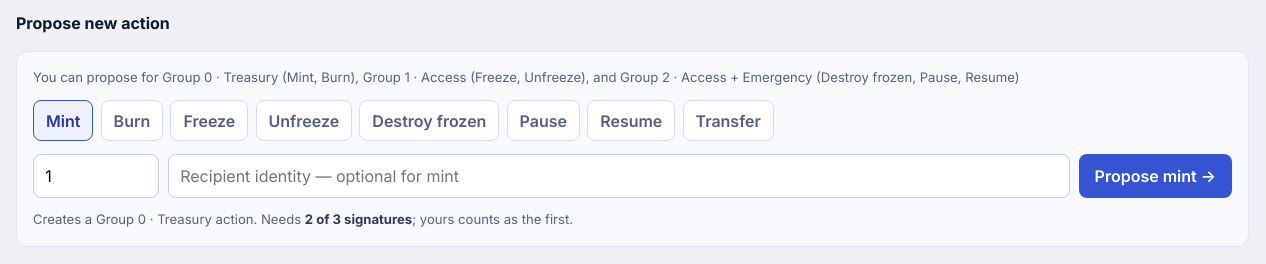
it: ProposeActionPanel › shows only the fields relevant to the selected proposal type
The image size is (1266, 264).
Expected: the field named "Mint amount" is shown, 33,154 -> 159,198
Expected: the field named "Mint recipient identity ID" is shown, 168,154 -> 1070,198
Click the tab "Unfreeze" at (304,121), box 256,100 -> 352,141
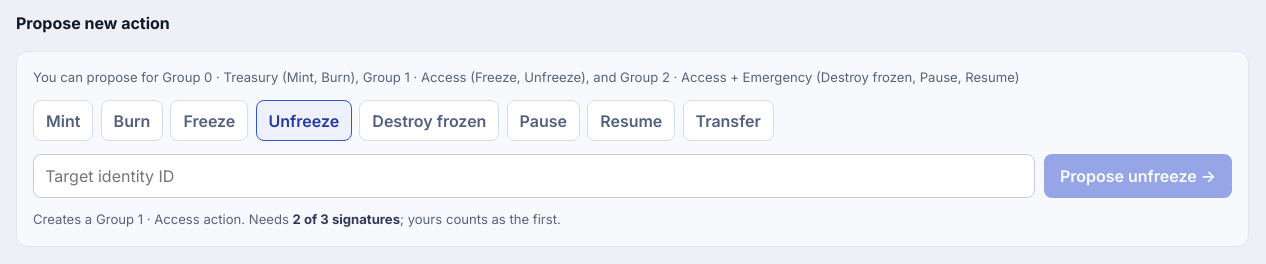
Now the field named "Unfreeze target identity ID" is shown, box 33,154 -> 1035,198
Now the button "Propose unfreeze →" is shown, box 1044,154 -> 1232,198
Click the tab "Resume" at (631,121), box 587,100 -> 675,141
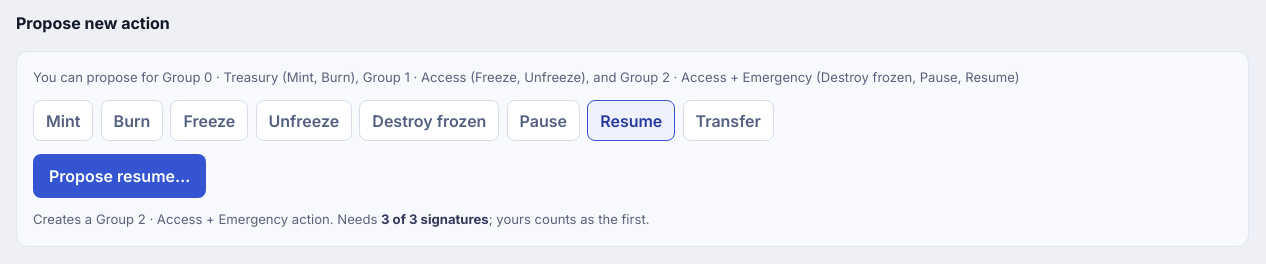
Now the button "Propose resume…" is shown, box 33,154 -> 206,198
